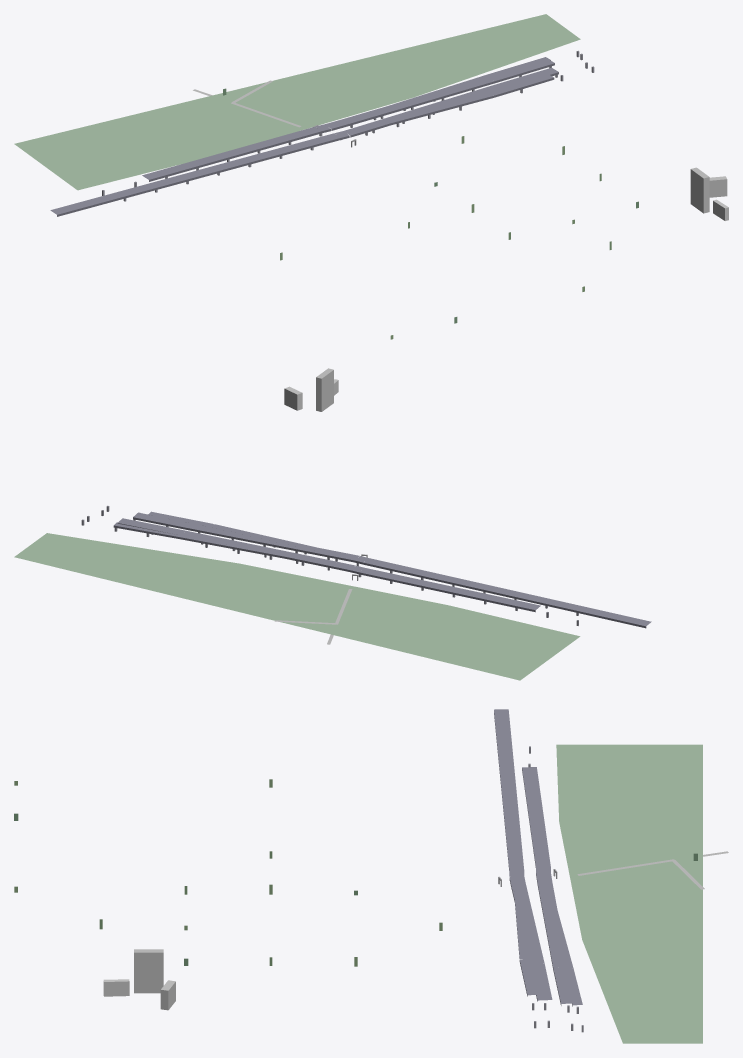
3 renders of one model, top to bottom at view 1: azimuth 30°, elevation 25°; view 2: azimuth 150°, elevation 25°; view 3: azimuth 270°, elevation 25°, orthographic. The views are drawn at different scales.
Size of the model in its own units: 545 by 34.8 by 505.
